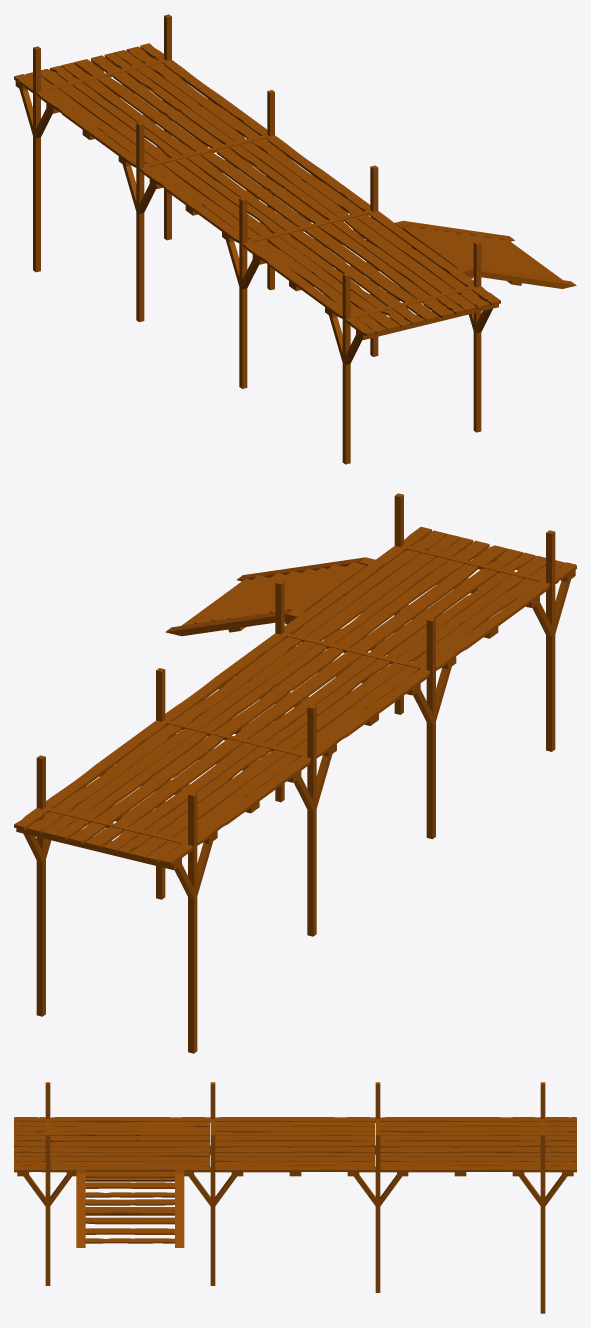
Rendered from fishing bridge 2.fbx.
3 renders of one model, top to bottom at view 1: azimuth 30°, elevation 25°; view 2: azimuth 150°, elevation 25°; view 3: azimuth 270°, elevation 25°, orthographic. The views are drawn at different scales.
Parts seen in each view (by area): view 1: Group5, Group10, Group9, Group8, Group51, Group14, Group15, Group58, Group37, Group48, Group6, Group42 (+32 smaller); view 2: Group5, Group11, Group10, Group9, Group8, Group51, Group14, Group15, Group58, Group37, Group48, Group42 (+33 smaller); view 3: Group11, Group51, Group77, Group78, Group42, Group38, Group14, Group27, Group15, Group4, Group58, Group37 (+37 smaller).
Boxes of the visible parts, left/top/right/bottom form: Group5: left=33, top=46, right=40, bottom=272; Group10: left=136, top=122, right=144, bottom=322; Group9: left=342, top=273, right=350, bottom=464; Group8: left=239, top=197, right=247, bottom=388; Group51: left=304, top=226, right=415, bottom=302; Group14: left=97, top=76, right=208, bottom=151; Group15: left=200, top=152, right=311, bottom=227; Group58: left=113, top=72, right=223, bottom=147; Group37: left=216, top=148, right=327, bottom=223; Group48: left=344, top=217, right=454, bottom=293; Group6: left=473, top=241, right=481, bottom=432; Group42: left=289, top=230, right=400, bottom=306; Group5: left=188, top=792, right=197, bottom=1053; Group11: left=36, top=755, right=45, bottom=1016; Group10: left=307, top=705, right=316, bottom=936; Group9: left=546, top=530, right=555, bottom=751; Group8: left=426, top=617, right=435, bottom=839; Group51: left=350, top=564, right=478, bottom=652; Group14: left=115, top=738, right=242, bottom=826; Group15: left=234, top=651, right=361, bottom=739; Group58: left=95, top=734, right=223, bottom=822; Group37: left=215, top=647, right=342, bottom=735; Group48: left=306, top=553, right=435, bottom=640; Group42: left=369, top=568, right=497, bottom=656; Group11: left=540, top=1133, right=545, bottom=1313; Group51: left=50, top=1141, right=209, bottom=1147; Group77: left=215, top=1166, right=375, bottom=1172; Group78: left=380, top=1166, right=540, bottom=1172; Group42: left=50, top=1135, right=209, bottom=1142; Group38: left=380, top=1126, right=540, bottom=1132; Group14: left=380, top=1141, right=540, bottom=1147; Group27: left=215, top=1126, right=374, bottom=1132; Group15: left=215, top=1141, right=374, bottom=1147; Group4: left=50, top=1166, right=210, bottom=1172; Group58: left=380, top=1147, right=540, bottom=1153; Group37: left=215, top=1147, right=374, bottom=1153.
Size of the model in its own units: 4.98 by 4.23 by 12.11.
